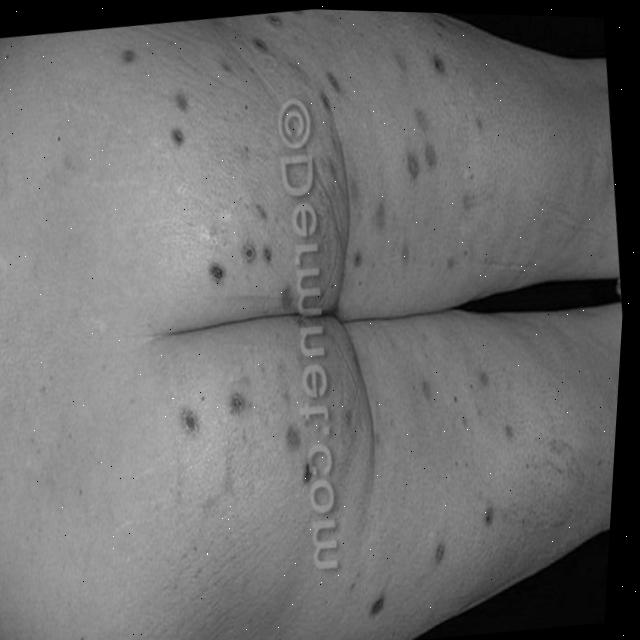Eczema: (78, 3, 566, 604)
